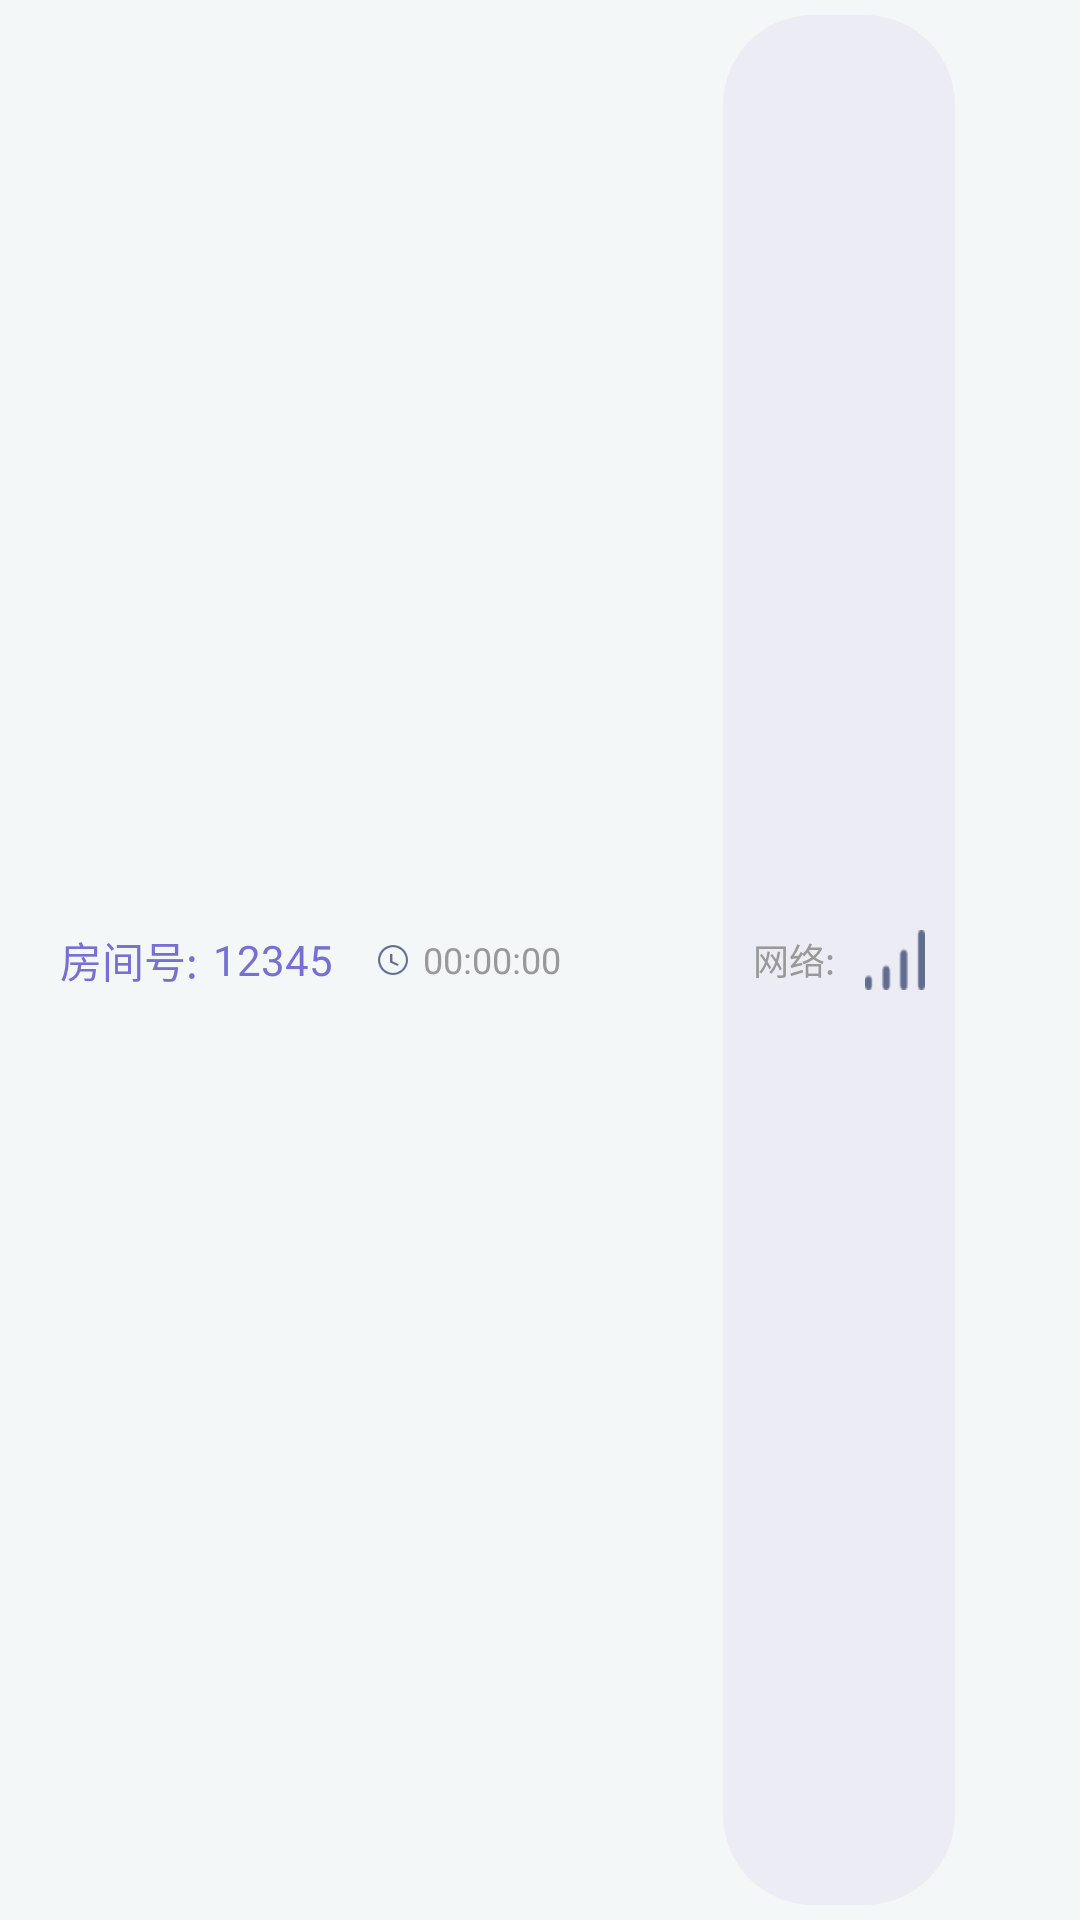

Icons on this 1080*1920 Android screen, each with its box as rect(x1, y1, x2, y2):
net sign: rect(865, 930, 925, 990)
time: rect(378, 945, 408, 975)
